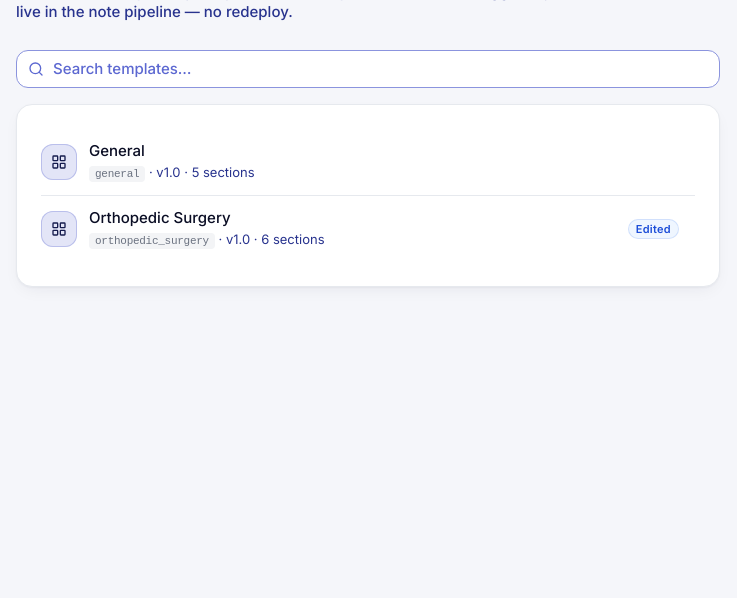
Test: AdminTemplatesPage › selecting a template loads the editor panel
Click the button with test id "template-item-orthopedic_surgery".
click(59, 229)  # box [33,196,687,262]
(page scrolled)
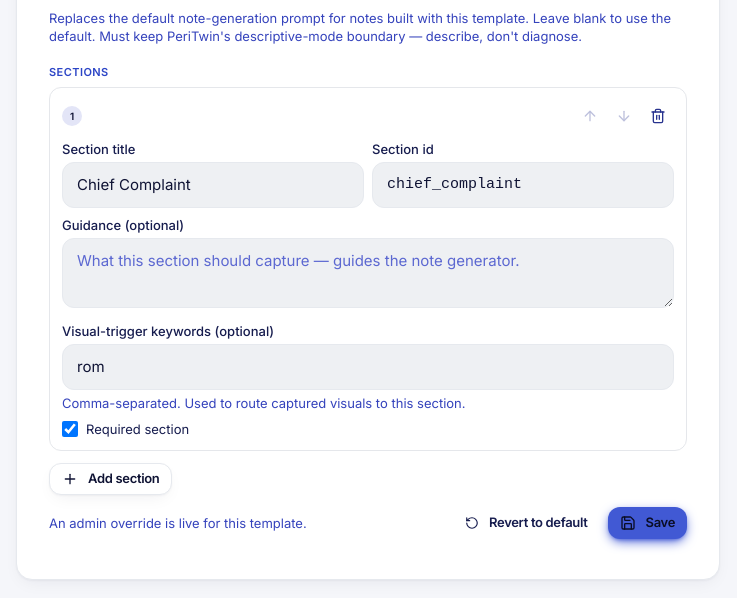
Check: the field showing "Chief Complaint" is shown, box [62,162,364,208]
Check: the button "Revert to default" is shown, box [453,507,600,539]
